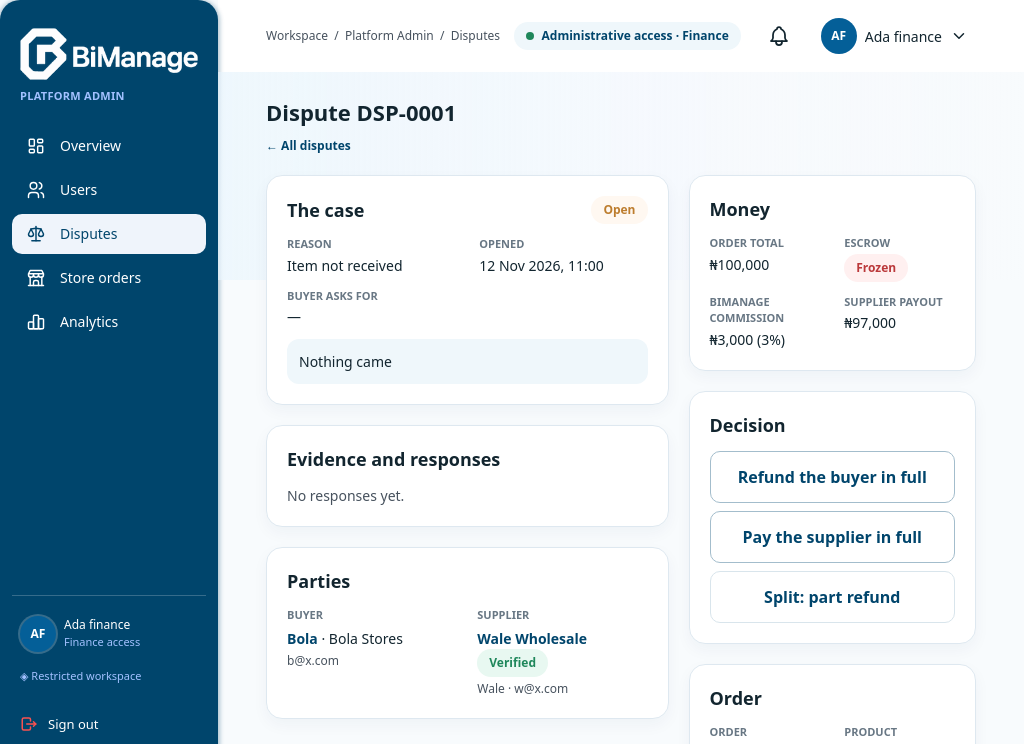
Test: disputes › Finance decides a split with the refund amount and a note
This screenshot has width=1024, height=744.
Click the button "Split: part refund": [832, 596] box [710, 570, 955, 622]
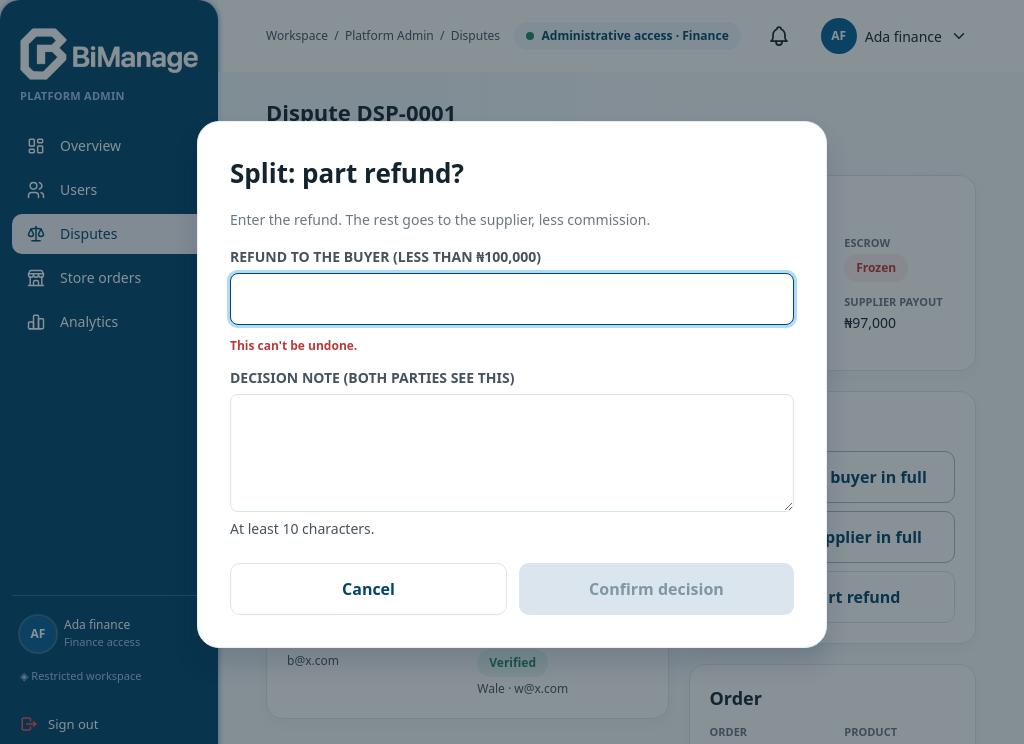
In the field labelled "Refund to the buyer (less than ₦100,000)": [517, 298] box [247, 274, 787, 324], type "40000"
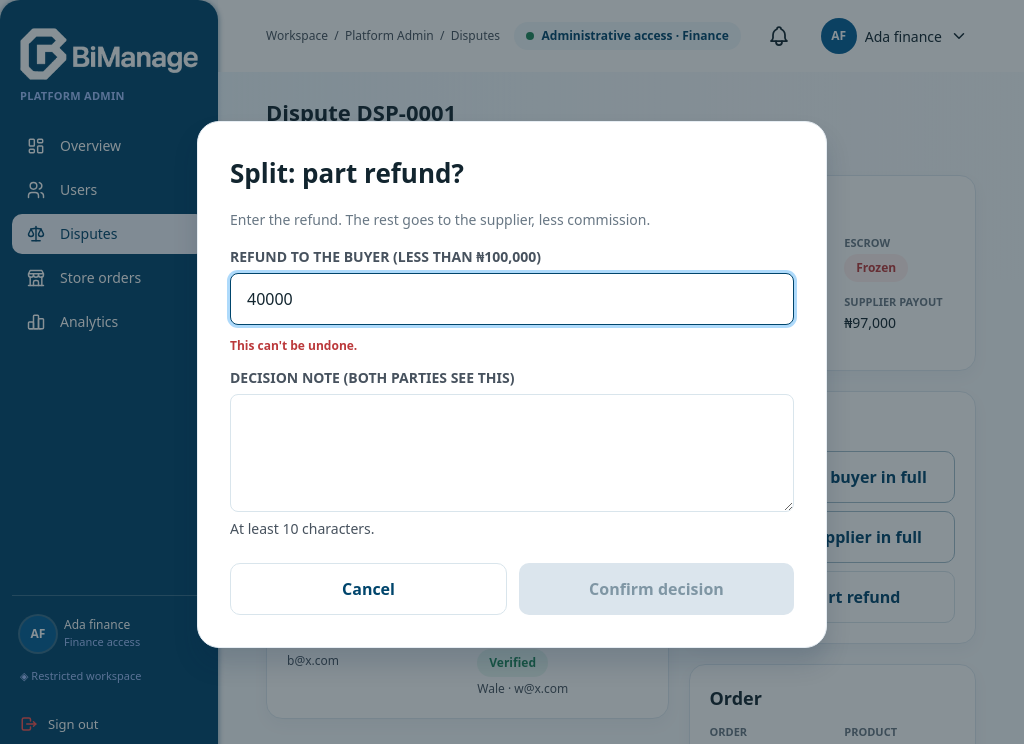
In the text box labelled "Decision note (both parties see this)": [512, 452] box [230, 394, 794, 512], type "Half the bags arrived damaged."
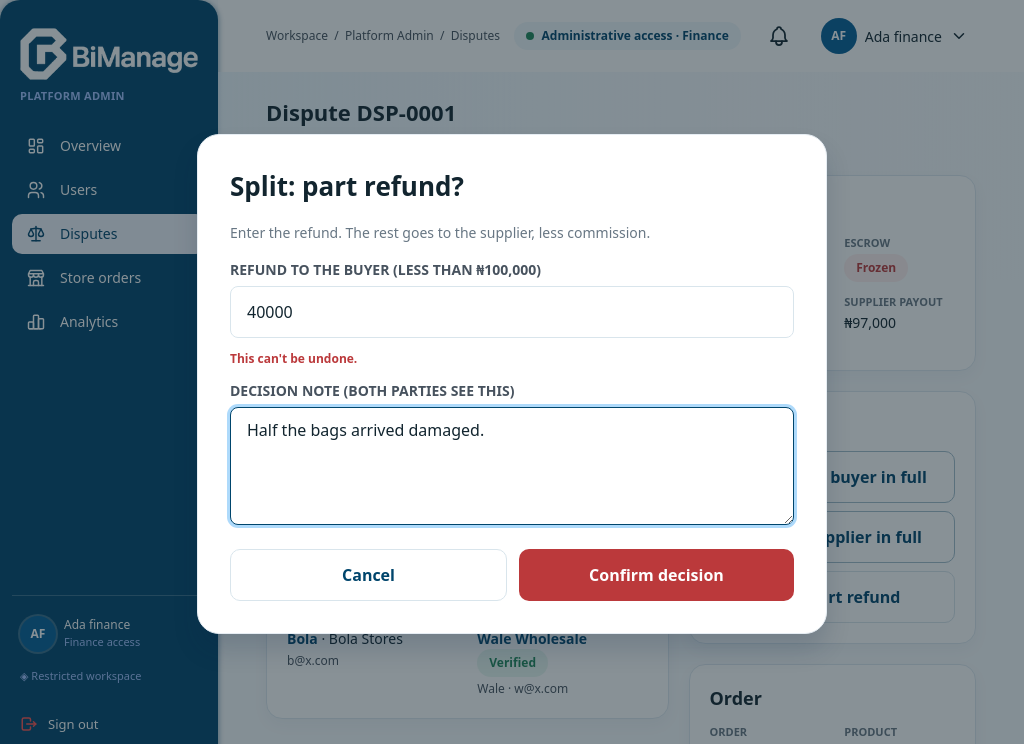
Click the button "Confirm decision": [656, 575] box [519, 549, 794, 601]
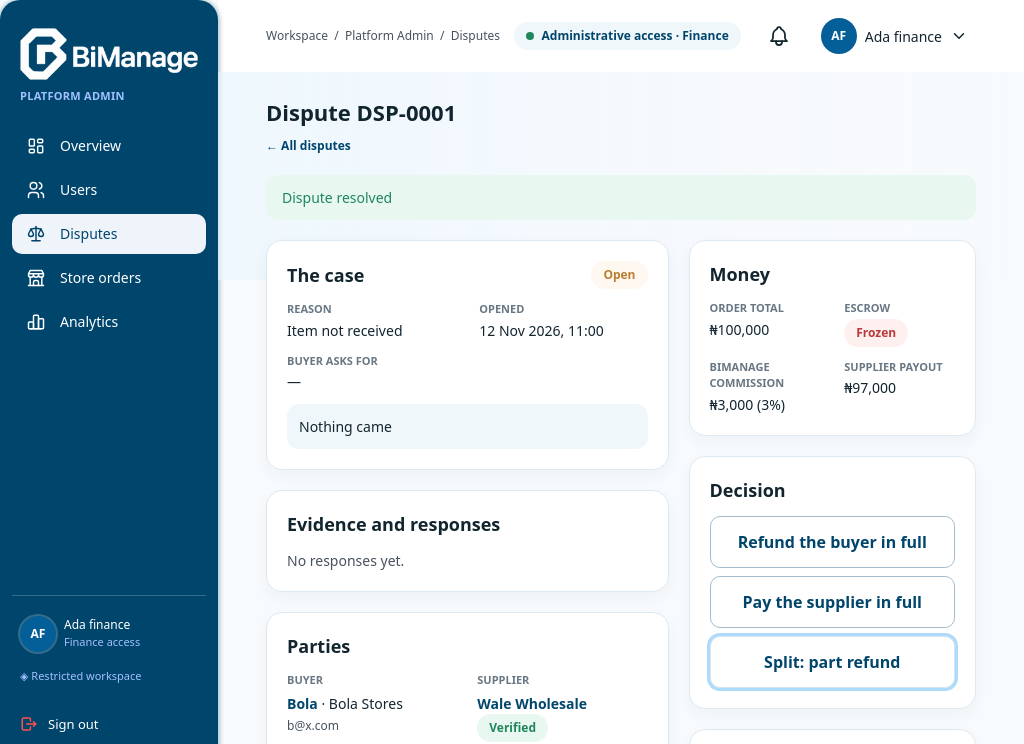
Expected: the text "Dispute resolved" is shown, [266, 175, 976, 220]
